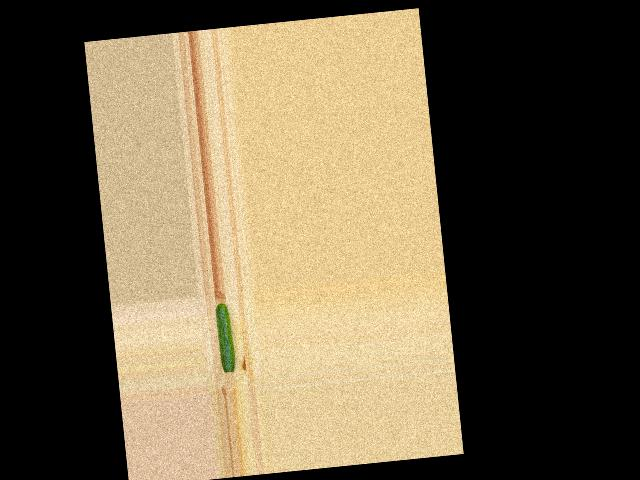cucumber: (215, 302, 235, 372)
